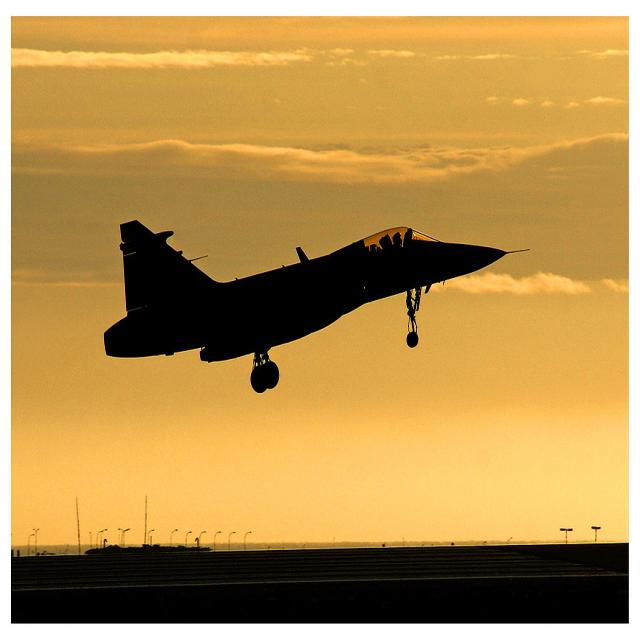MIL_Plane: (104, 219, 530, 393)
